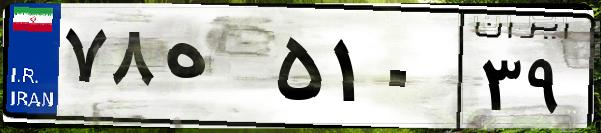0: (385, 28, 445, 110)
1: (330, 28, 385, 110)
3: (475, 38, 525, 113)
5: (270, 28, 330, 110)
7: (57, 26, 110, 100)
8: (110, 28, 158, 98)
9: (525, 38, 570, 115)
ه: (158, 20, 270, 120)
